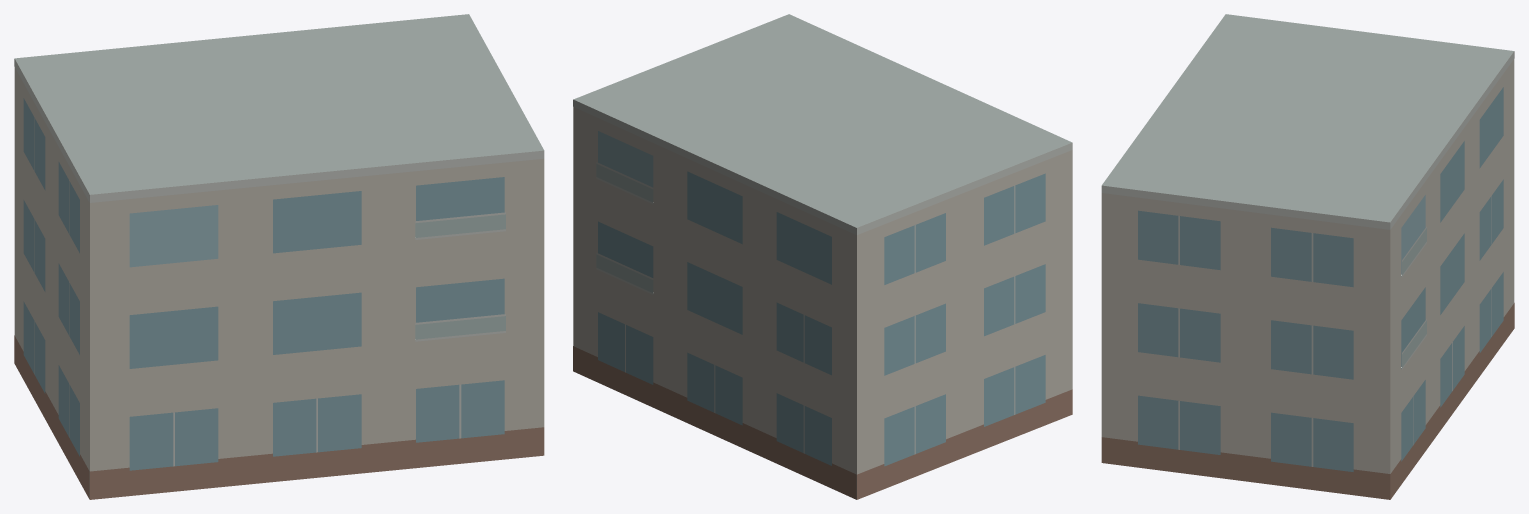
Rendered from survey-upis-32705047.glb.
The picture shows the model from 3 angles, left to right: view 1: azimuth 30°, elevation 25°; view 2: azimuth 150°, elevation 25°; view 3: azimuth 270°, elevation 25°; orthographic projection. The views are drawn at different scales.
Parts seen in each view (by area): view 1: survey-upis-32705047.tmp; view 2: survey-upis-32705047.tmp; view 3: survey-upis-32705047.tmp.
Boxes of the visible parts, x1,y1,x2,y2 form: survey-upis-32705047.tmp: [14, 14, 544, 499]; survey-upis-32705047.tmp: [573, 14, 1072, 499]; survey-upis-32705047.tmp: [1101, 14, 1514, 499].
Size of the model in its own units: 14.76 by 9.15 by 12.35.
